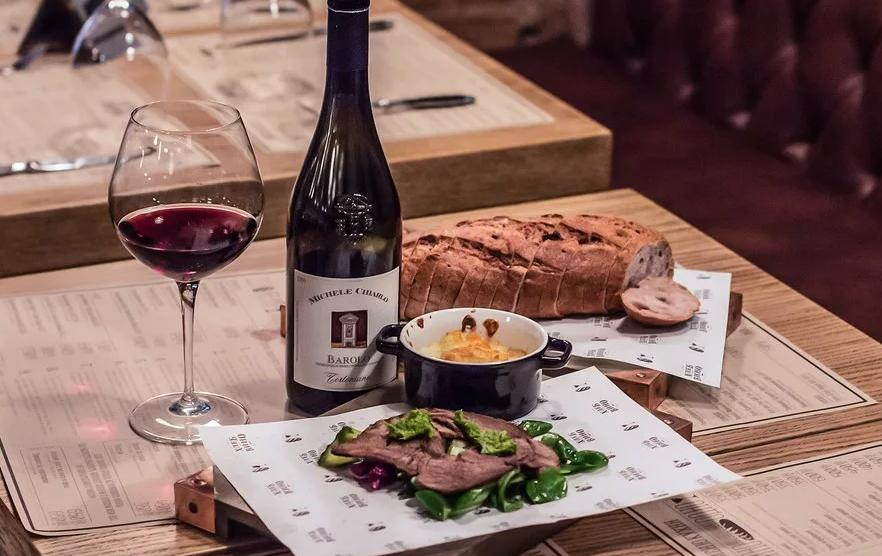wine bottle: (286, 0, 405, 415)
wine label: (294, 266, 399, 393)
